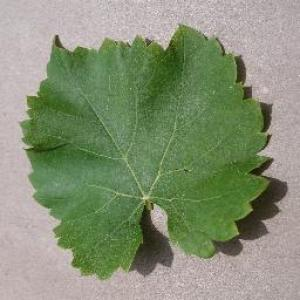Folha: (19, 22, 273, 280)
